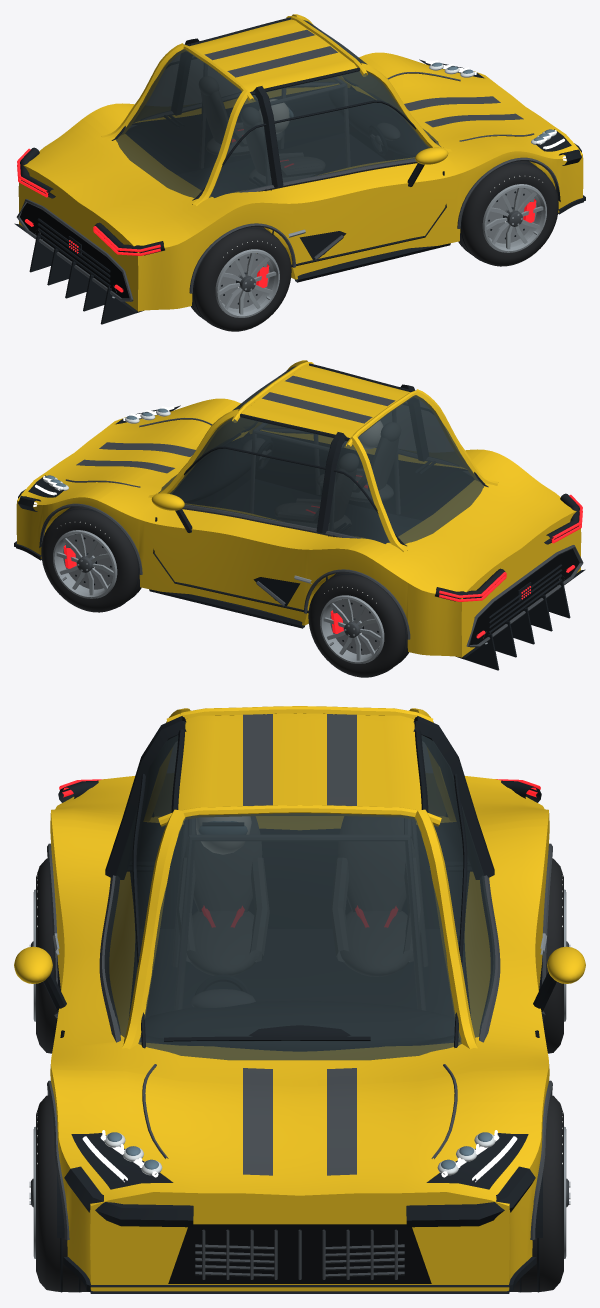
File: fleet-1.glb
3 views of the same model, one above another, from view 1: azimuth 30°, elevation 25°; view 2: azimuth 150°, elevation 25°; view 3: azimuth 270°, elevation 25° (orthographic). The views are drawn at different scales.
Visible parts, largest first — view 1: GT_body, GT_glazing, GT_tyre, GT_cockpit_tub, GT_roof, GT_cockpit_floor, GT_roof_pillar.001, GT_diffuser_fin, GT_dashboard, GT_rear_fascia, GT_wheel_spoke, GT_alloy_disc (+24 smaller); view 2: GT_body, GT_glazing, GT_tyre, GT_cockpit_tub, GT_roof, GT_cockpit_floor, GT_roof_pillar.001, GT_diffuser_fin, GT_dashboard, GT_rear_fascia, GT_wheel_spoke, GT_alloy_disc (+24 smaller); view 3: GT_body, GT_glazing, GT_roof, GT_tyre, GT_cockpit_floor, GT_cockpit_tub, GT_dashboard, GT_radiator, GT_bucket_back, GT_roof_pillar.001, GT_bucket_base, GT_roof_pillar.002 (+25 smaller).
Boxes of the visible parts, x1,y1,x2,y2 form: GT_body: (18, 52, 583, 311); GT_glazing: (116, 20, 440, 198); GT_tyre: (191, 161, 558, 331); GT_cockpit_tub: (125, 86, 409, 174); GT_roof: (189, 19, 356, 91); GT_cockpit_floor: (178, 133, 385, 197); GT_roof_pillar.001: (101, 14, 451, 205); GT_diffuser_fin: (29, 235, 143, 324); GT_dashboard: (329, 88, 426, 157); GT_rear_fascia: (20, 203, 129, 298); GT_wheel_spoke: (219, 187, 543, 314); GT_alloy_disc: (219, 188, 536, 308); GT_body: (16, 398, 581, 657); GT_glazing: (158, 366, 484, 543); GT_tyre: (41, 507, 408, 677); GT_cockpit_tub: (190, 432, 474, 520); GT_roof: (243, 365, 410, 437); GT_cockpit_floor: (214, 479, 421, 543); GT_roof_pillar.001: (148, 360, 498, 551); GT_diffuser_fin: (456, 581, 570, 670); GT_dashboard: (173, 434, 270, 503); GT_rear_fascia: (470, 549, 579, 644); GT_wheel_spoke: (56, 533, 380, 660); GT_alloy_disc: (63, 534, 380, 654); GT_body: (50, 776, 549, 1291); GT_glazing: (104, 735, 495, 1060); GT_roof: (178, 713, 421, 810); GT_tyre: (36, 858, 563, 1292); GT_cockpit_floor: (135, 929, 464, 1043); GT_cockpit_tub: (129, 822, 470, 1015); GT_dashboard: (145, 1001, 454, 1051); GT_radiator: (168, 1224, 431, 1283); GT_bucket_back: (184, 816, 415, 911); GT_roof_pillar.001: (122, 708, 477, 1049); GT_bucket_base: (187, 911, 412, 976); GT_roof_pillar.002: (105, 716, 494, 879).
Size of the model in its own units: 0.3269 by 0.1381 by 0.1906.
